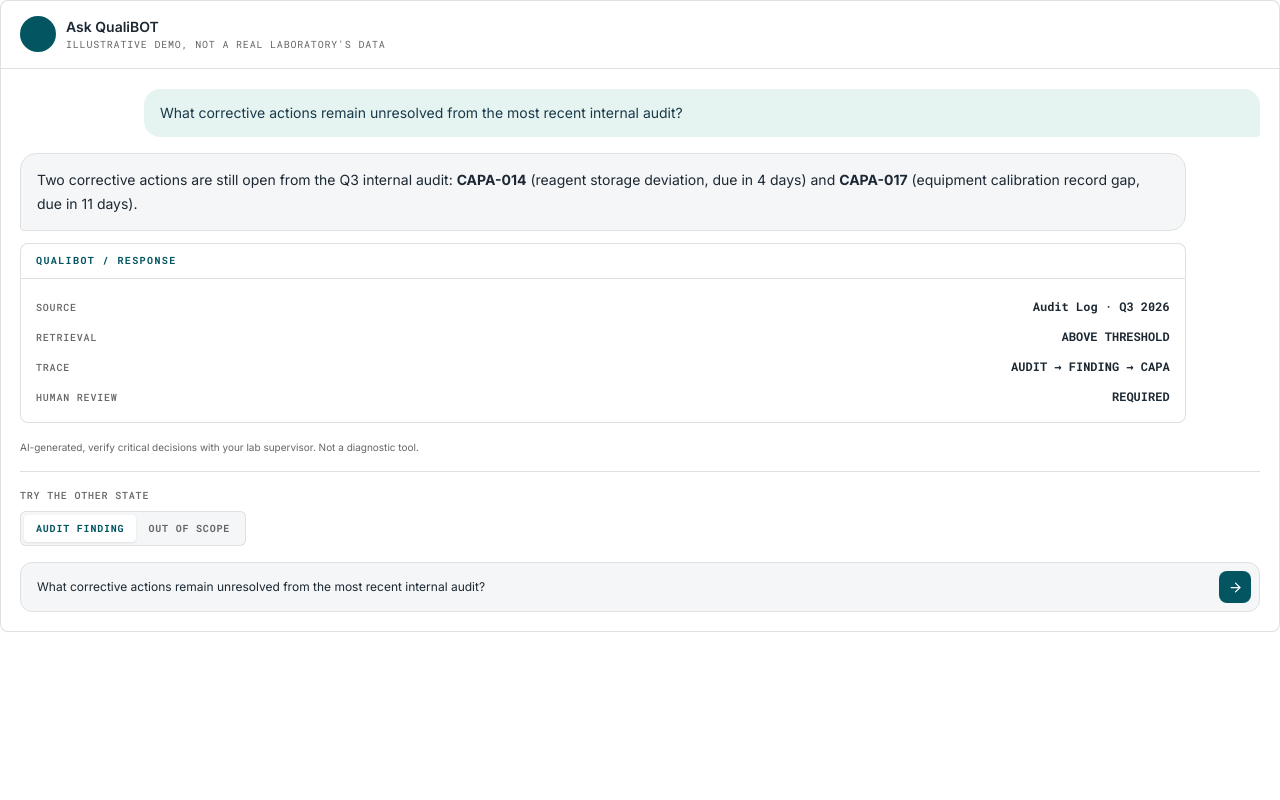
Test: interactive product illustrations › keeps a submitted custom question and declines to answer it from the sample audit
The image size is (1280, 800).
Replace the text in the field named "Ask QualiBOT a question" with "Can you compare this lab with another lab?" at (620, 587), box top-left (29, 571), bottom-right (1211, 603)
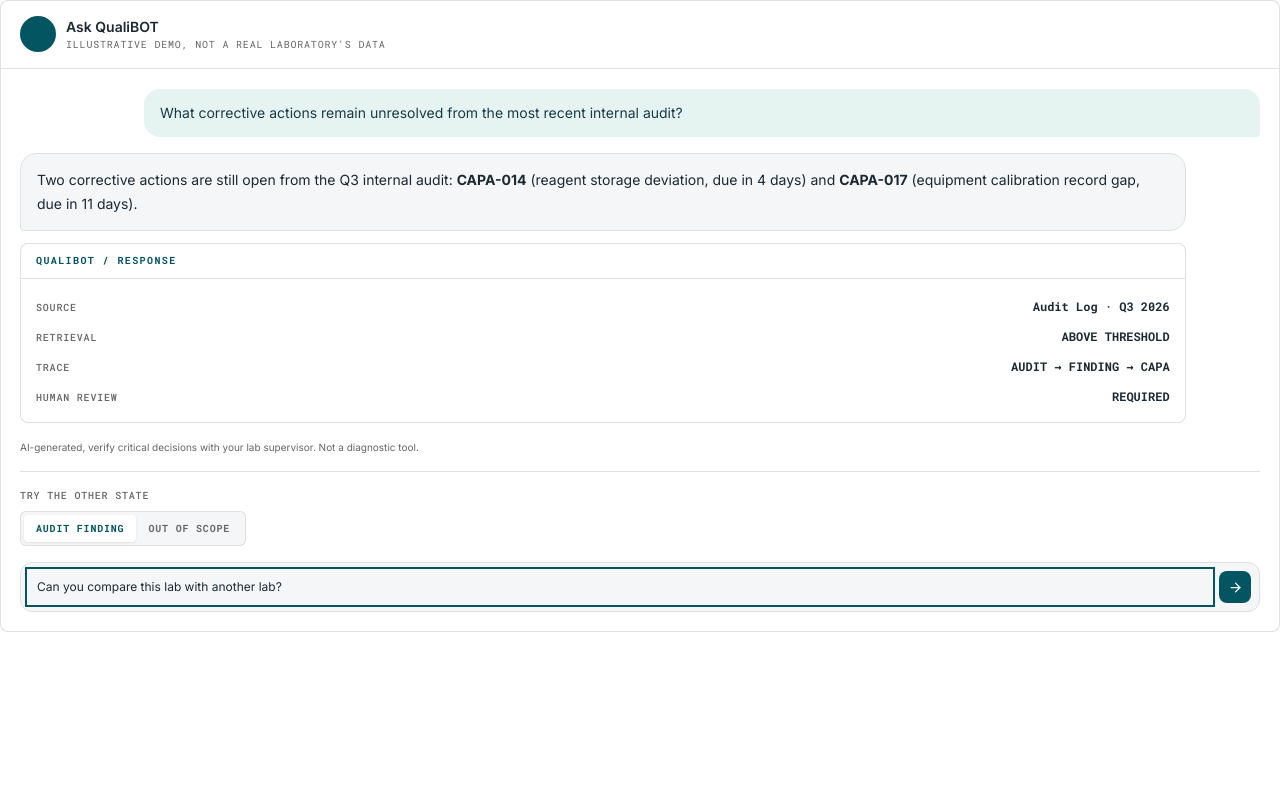
Press Enter
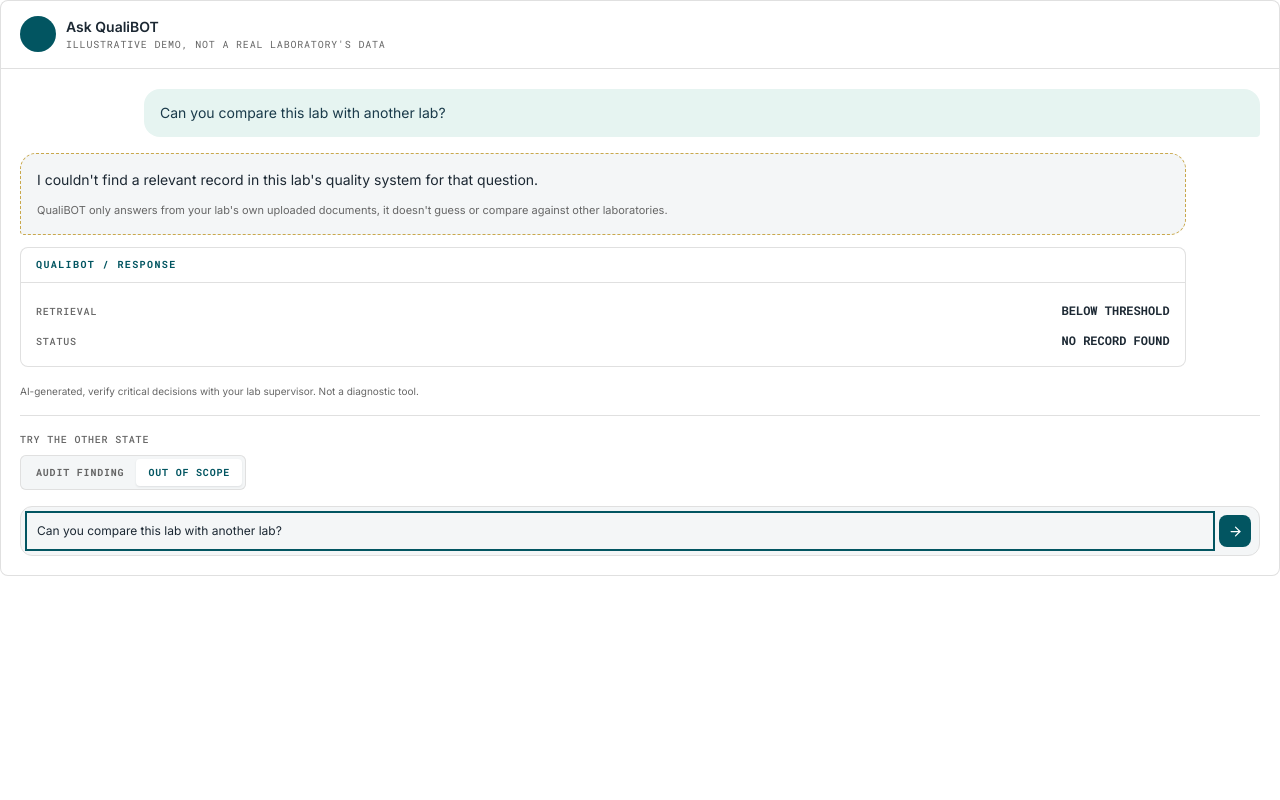
Result: the text "couldn't find a relevant record" is shown at top-left (37, 171), bottom-right (538, 188)
Result: the text "Can you compare this lab with another lab?" is shown at top-left (144, 89), bottom-right (1260, 137)
Result: the text "CAPA-014" is gone
